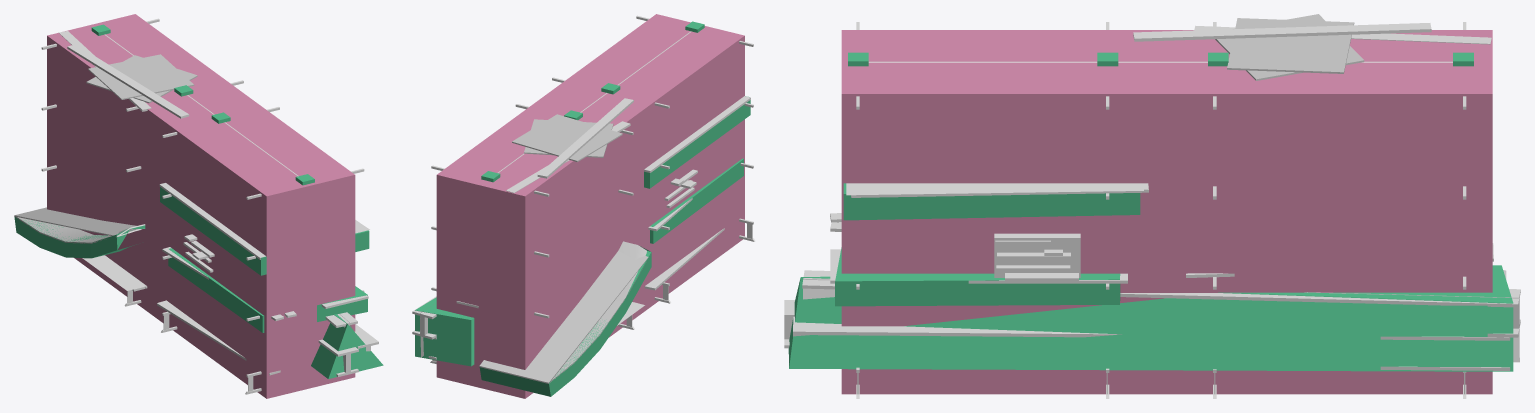
File: ind_obj_02_c.dae
The picture shows the model from 3 angles, left to right: view 1: azimuth 30°, elevation 25°; view 2: azimuth 150°, elevation 25°; view 3: azimuth 270°, elevation 25°; orthographic projection. The views are drawn at different scales.
Parts seen in each view (by area): view 1: Untitled, Colmesh-1, tree_oak_bush_a300, tree_oak_bush_a20; view 2: Untitled, Colmesh-1, tree_oak_bush_a20, tree_oak_bush_a300; view 3: Untitled, Colmesh-1, tree_oak_bush_a300, tree_oak_bush_a20.
Boxes of the visible parts, left/top/right/bottom form: Untitled: left=47, top=14, right=355, bottom=398; Colmesh-1: left=14, top=24, right=383, bottom=378; tree_oak_bush_a300: left=14, top=18, right=378, bottom=394; tree_oak_bush_a20: left=15, top=54, right=369, bottom=373; Untitled: left=436, top=14, right=744, bottom=398; Colmesh-1: left=415, top=21, right=750, bottom=396; tree_oak_bush_a20: left=420, top=96, right=750, bottom=383; tree_oak_bush_a300: left=412, top=15, right=755, bottom=383; Untitled: left=841, top=30, right=1492, bottom=394; Colmesh-1: left=788, top=52, right=1513, bottom=371; tree_oak_bush_a300: left=784, top=22, right=1520, bottom=398; tree_oak_bush_a20: left=803, top=14, right=1519, bottom=362.
Bounding box in the file's own units: 1.92 × 6.19 × 2.89.
